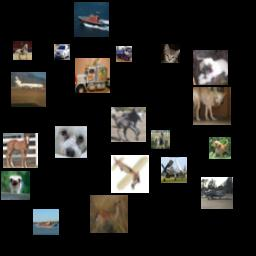airplane: (111, 155, 149, 193), (11, 72, 46, 107), (201, 177, 233, 209), (161, 157, 187, 183)
automobile: (54, 44, 70, 60)
bird: (1, 171, 30, 200)
cat: (161, 44, 180, 63)
deer: (90, 195, 128, 233)
dog: (193, 87, 231, 125), (193, 50, 228, 85), (55, 126, 87, 158), (209, 137, 231, 159)
ship: (74, 2, 109, 37), (33, 209, 59, 235)
truck: (75, 58, 110, 93), (116, 46, 132, 62)
